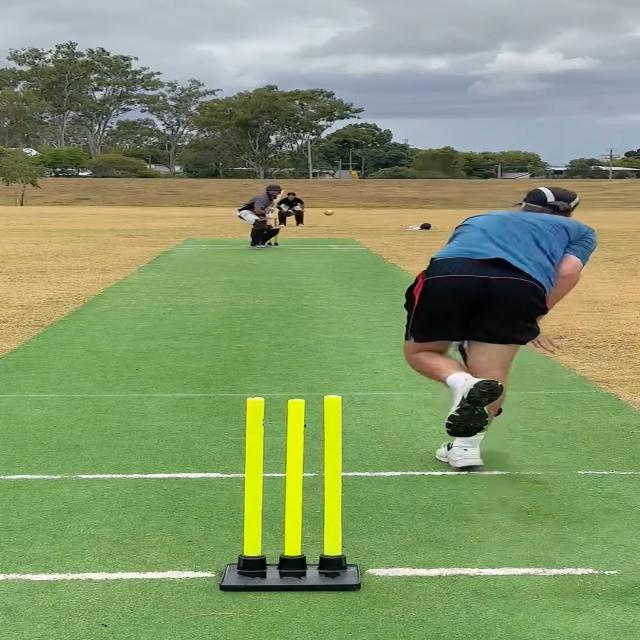ball: (323, 208, 336, 216)
stump: (219, 393, 363, 591)
